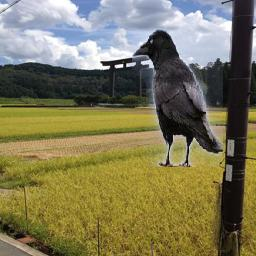Crow: (133, 29, 224, 168)
